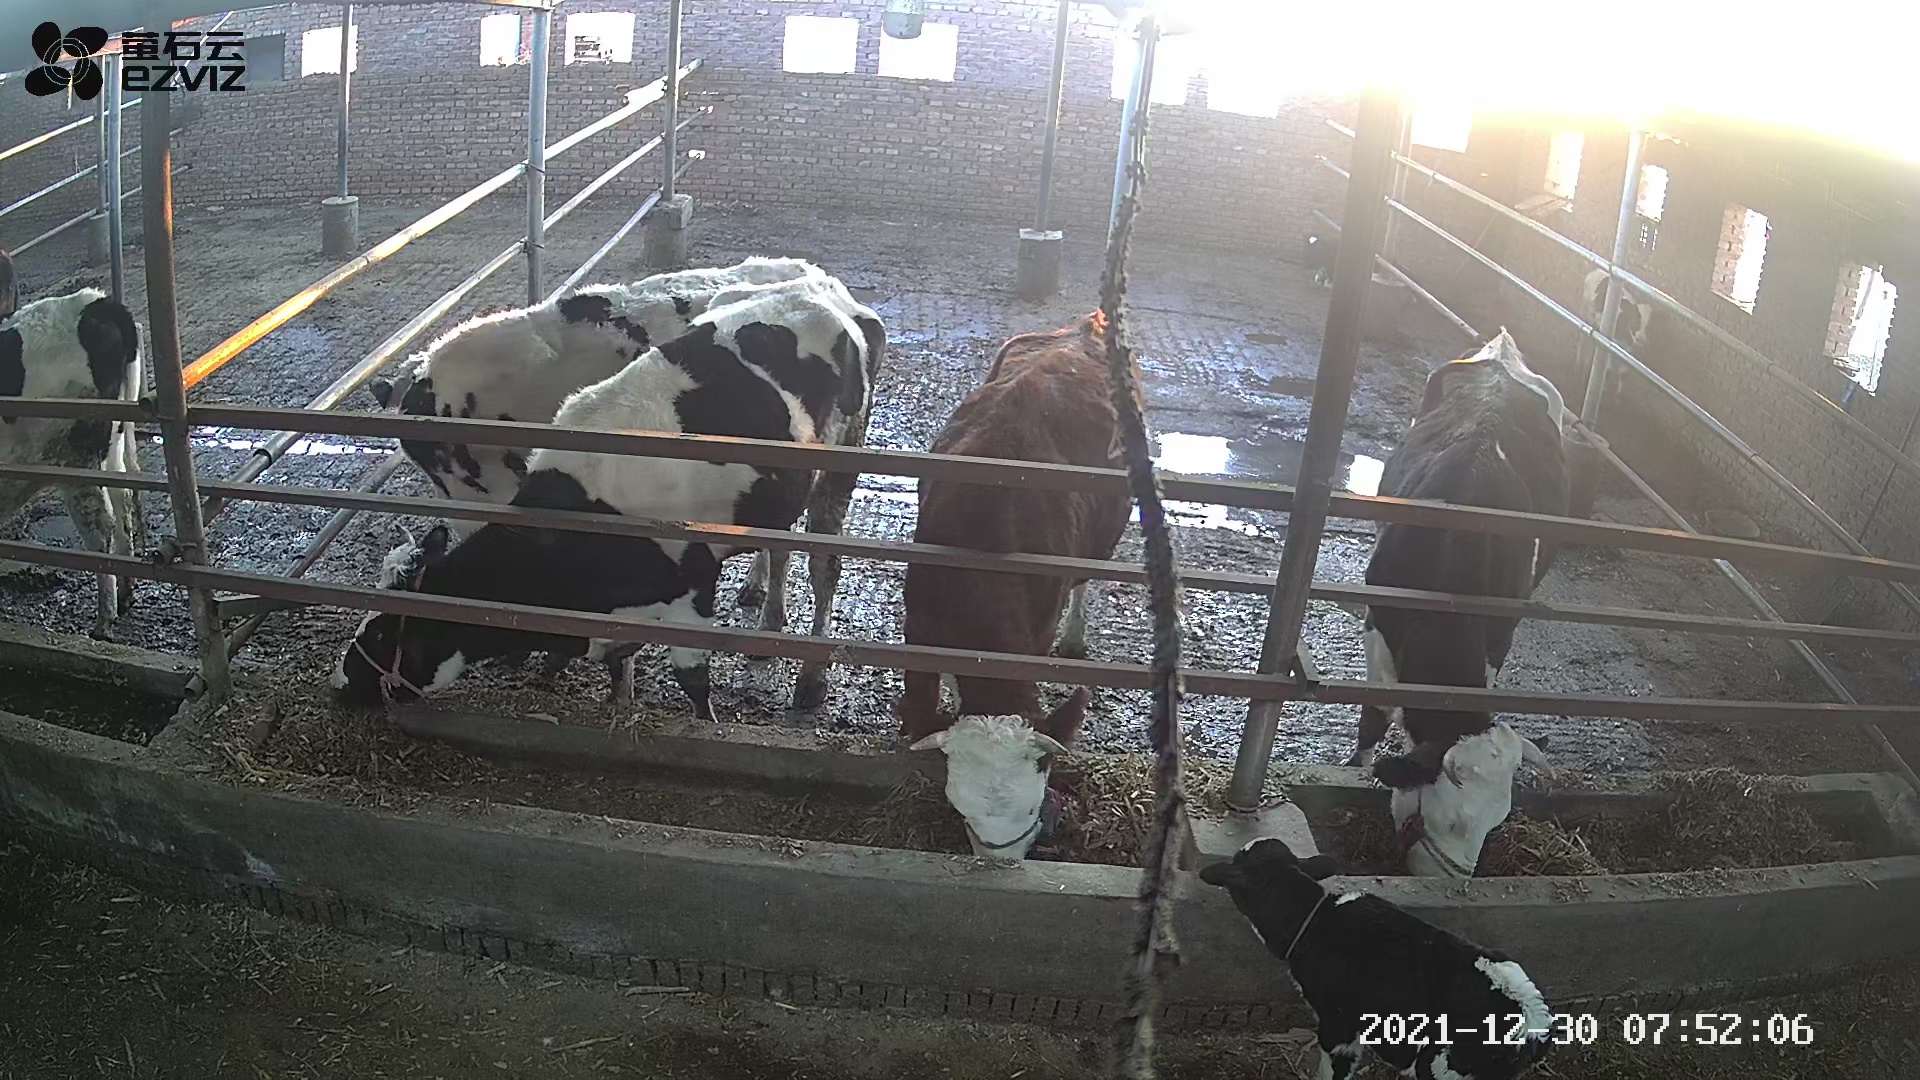cow: (323, 276, 887, 727), (367, 255, 825, 611), (901, 307, 1147, 860), (1342, 324, 1572, 877)
